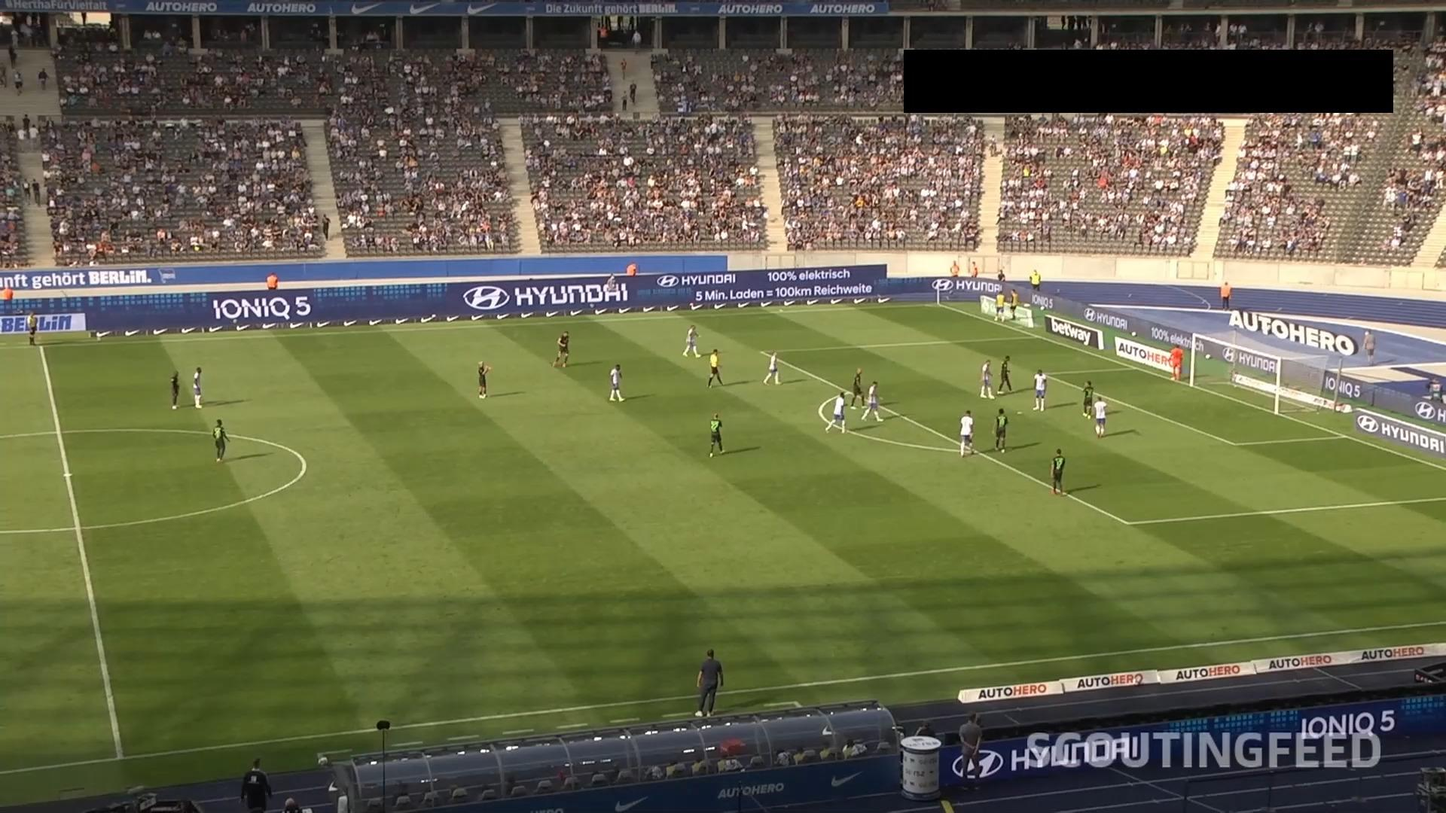goalkeeper: (1169, 343, 1183, 382)
player: (859, 379, 886, 424), (956, 408, 978, 458), (705, 410, 727, 459), (825, 389, 847, 434), (606, 362, 626, 405), (991, 407, 1010, 452), (1050, 448, 1067, 496), (1092, 393, 1109, 439), (849, 369, 868, 410), (996, 354, 1015, 394), (212, 419, 230, 461), (551, 330, 570, 369), (475, 361, 493, 400), (980, 358, 995, 403), (763, 350, 782, 385), (1033, 369, 1048, 413), (168, 368, 182, 411), (191, 367, 205, 410), (683, 324, 700, 358), (1080, 378, 1094, 419)
referee: (706, 348, 725, 390), (24, 309, 39, 349)
